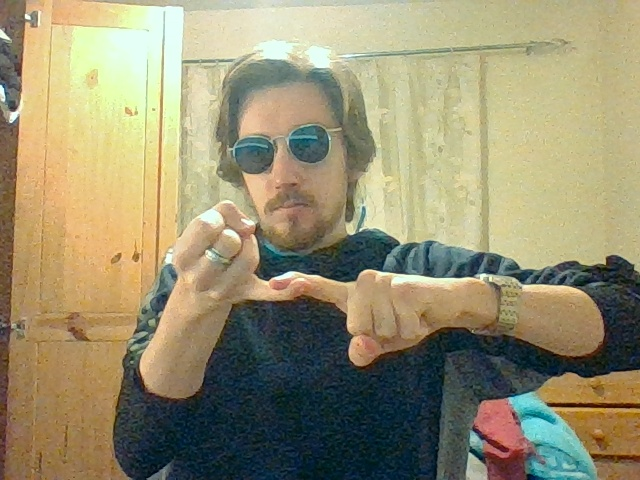step: (173, 200, 425, 367)
